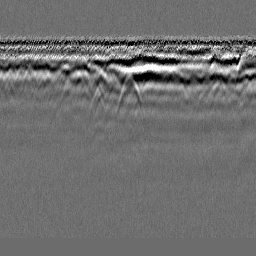cavity: (114, 72, 142, 119)
